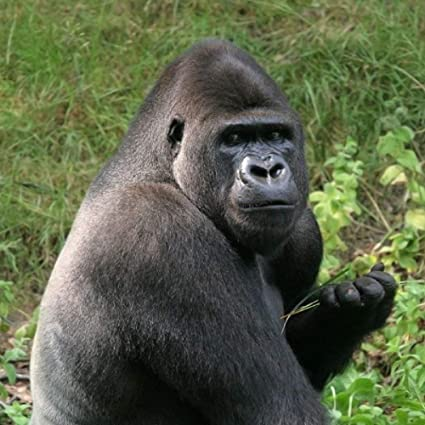Gorilla: (54, 33, 399, 423)
